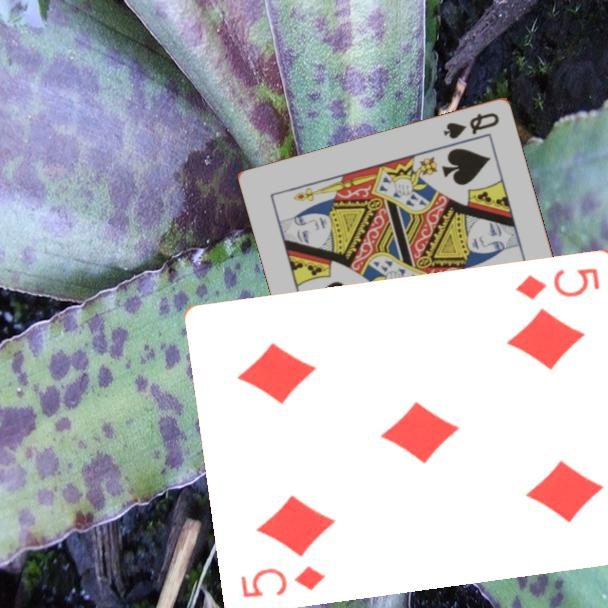d05: (512, 264, 603, 302), (238, 562, 329, 600)
s12: (440, 109, 502, 142)
